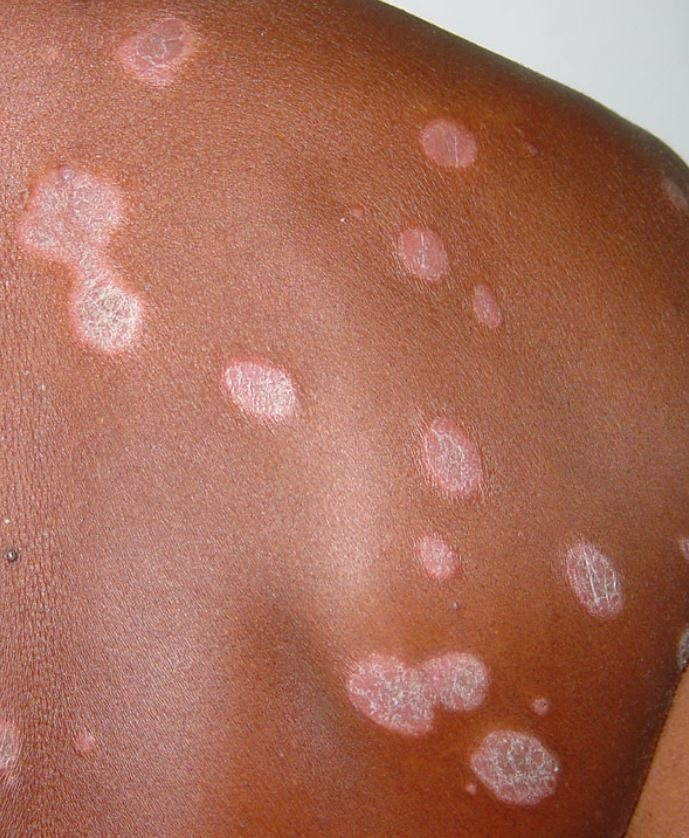Psoriasis: (14, 155, 163, 365), (332, 645, 499, 739), (202, 350, 318, 431), (409, 404, 499, 507), (467, 730, 574, 810), (116, 7, 201, 100), (556, 530, 632, 629), (389, 211, 460, 292), (418, 111, 484, 186), (414, 526, 464, 590), (466, 275, 512, 335)
